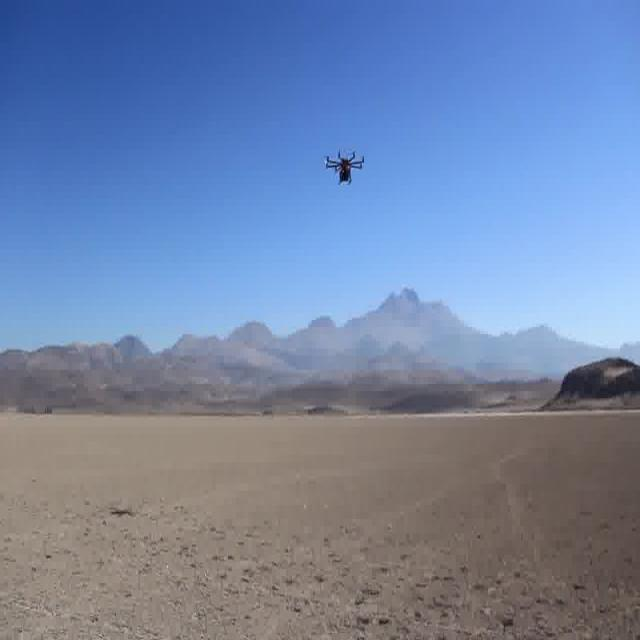Drone_FW: (324, 147, 364, 185)
